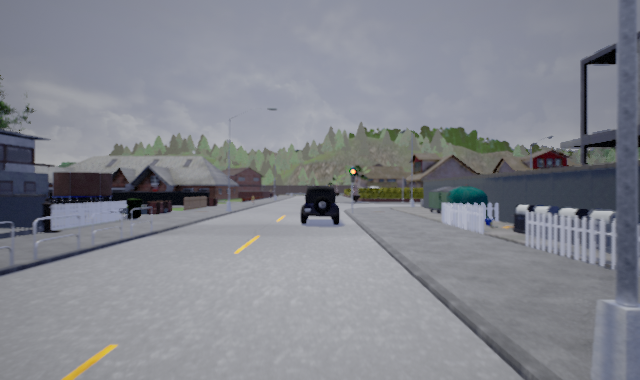vehicle: (299, 185, 341, 226)
